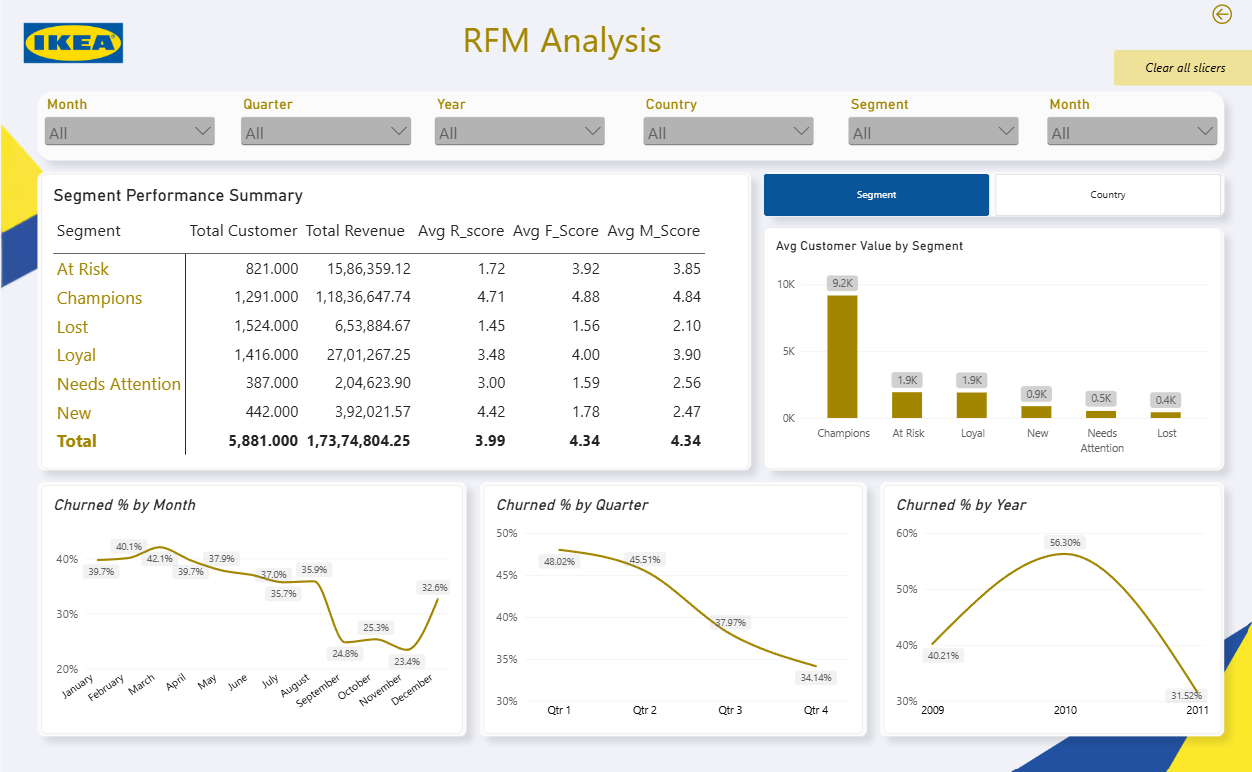

The page's visual inventory and layout, read from the dashboard file:
{"tool":"powerbi","page":{"name":"RFM Analysis","canvas":[1920,1080],"ordinal":2},"visuals":[{"type":"slicer","fields":{"Values":["Sheet1.InvoiceDate.Variation.Date Hierarchy.Month"]},"box":[141.3,132.6,247.7,87.2],"z":0},{"type":"pivotTable","title":"Country Performance Summary","fields":{"Rows":["Sheet1.Country"],"Values":["Sheet1.Total Customer","Sheet1.Total Revenue","Avg(Sheet1.R_Score)","Avg(Sheet1.F_Score)","Avg(Sheet1.M_Score)"]},"box":[140.3,246.8,986.9,409.9],"z":0},{"type":"areaChart","fields":{"Category":["Sheet1.InvoiceDate.Variation.Date Hierarchy.Month"],"Y":["Sheet1.Churned %"]},"box":[141.3,676.7,587.8,347.1],"z":0,"group":"g1"},{"type":"slicer","fields":{"Values":["Sheet1.InvoiceDate.Variation.Date Hierarchy.Quarter"]},"box":[415.1,132.6,247.7,87.2],"z":1000},{"type":"clusteredColumnChart","title":"Top 5 Country by avg Customer Value","fields":{"Category":["Sheet1.Country"],"Y":["Sheet1.Avg Customer Value"]},"box":[1148.1,316.9,638.4,336.6],"z":1000},{"type":"areaChart","fields":{"Category":["Sheet1.InvoiceDate.Variation.Date Hierarchy.Quarter"],"Y":["Sheet1.Churned %"]},"box":[758.7,676.7,528.5,347.1],"z":1000,"group":"g1"},{"type":"slicer","fields":{"Values":["Sheet1.InvoiceDate.Variation.Date Hierarchy.Year"]},"box":[685.5,132.6,247.7,87.2],"z":2000},{"type":"areaChart","fields":{"Category":["Sheet1.InvoiceDate.Variation.Date Hierarchy.Year"],"Y":["Sheet1.Churned %"]},"box":[1316.9,676.7,470.9,347.1],"z":2000,"group":"g1"},{"type":"slicer","fields":{"Values":["Sheet1.Country"]},"box":[976.7,132.6,247.7,87.2],"z":3000},{"type":"slicer","fields":{"Values":["Sheet1.Segment"]},"box":[1262.8,132.6,247.7,87.2],"z":4000},{"type":"slicer","fields":{"Values":["Sheet1.InvoiceDate.Variation.Date Hierarchy.Month"]},"box":[1540.1,132.6,247.7,87.2],"z":5000},{"type":"group","id":"g1","title":"Revenue","box":[141.3,676.7,1646.5,347.1],"z":7000},{"type":"image","box":[86.7,0,198.3,120],"z":8000},{"type":"textbox","box":[729.1,20.9,433.3,75],"z":9000},{"type":"actionButton","box":[1738.3,0,100,40],"z":10000},{"type":"actionButton","box":[1638.3,70,200,50],"z":11000},{"type":"bookmarkNavigator","box":[1148.8,242.1,638.6,59.6],"z":12000}]}

Visuals, with their boxes on the page's 1920x1080 design canvas (x1, y1, x2, y2). These are canvas units, not pixel positions in the 1252x772 screenshot, which may show the page scaled, cropped or inside an application window:
slicer - Sheet1.InvoiceDate.Variation.Date Hierarchy.Month: {"x1": 141, "y1": 133, "x2": 389, "y2": 220}
"Country Performance Summary" pivotTable: {"x1": 140, "y1": 247, "x2": 1127, "y2": 657}
areaChart - Sheet1.InvoiceDate.Variation.Date Hierarchy.Month x Sheet1.Churned %: {"x1": 141, "y1": 677, "x2": 729, "y2": 1024}
slicer - Sheet1.InvoiceDate.Variation.Date Hierarchy.Quarter: {"x1": 415, "y1": 133, "x2": 663, "y2": 220}
"Top 5 Country by avg Customer Value" clusteredColumnChart: {"x1": 1148, "y1": 317, "x2": 1786, "y2": 654}
areaChart - Sheet1.InvoiceDate.Variation.Date Hierarchy.Quarter x Sheet1.Churned %: {"x1": 759, "y1": 677, "x2": 1287, "y2": 1024}
slicer - Sheet1.InvoiceDate.Variation.Date Hierarchy.Year: {"x1": 686, "y1": 133, "x2": 933, "y2": 220}
areaChart - Sheet1.InvoiceDate.Variation.Date Hierarchy.Year x Sheet1.Churned %: {"x1": 1317, "y1": 677, "x2": 1788, "y2": 1024}
slicer - Sheet1.Country: {"x1": 977, "y1": 133, "x2": 1224, "y2": 220}
slicer - Sheet1.Segment: {"x1": 1263, "y1": 133, "x2": 1510, "y2": 220}
slicer - Sheet1.InvoiceDate.Variation.Date Hierarchy.Month: {"x1": 1540, "y1": 133, "x2": 1788, "y2": 220}
"Revenue" group: {"x1": 141, "y1": 677, "x2": 1788, "y2": 1024}
image: {"x1": 87, "y1": 0, "x2": 285, "y2": 120}
textbox: {"x1": 729, "y1": 21, "x2": 1162, "y2": 96}
actionButton: {"x1": 1738, "y1": 0, "x2": 1838, "y2": 40}
actionButton: {"x1": 1638, "y1": 70, "x2": 1838, "y2": 120}
bookmarkNavigator: {"x1": 1149, "y1": 242, "x2": 1787, "y2": 302}
